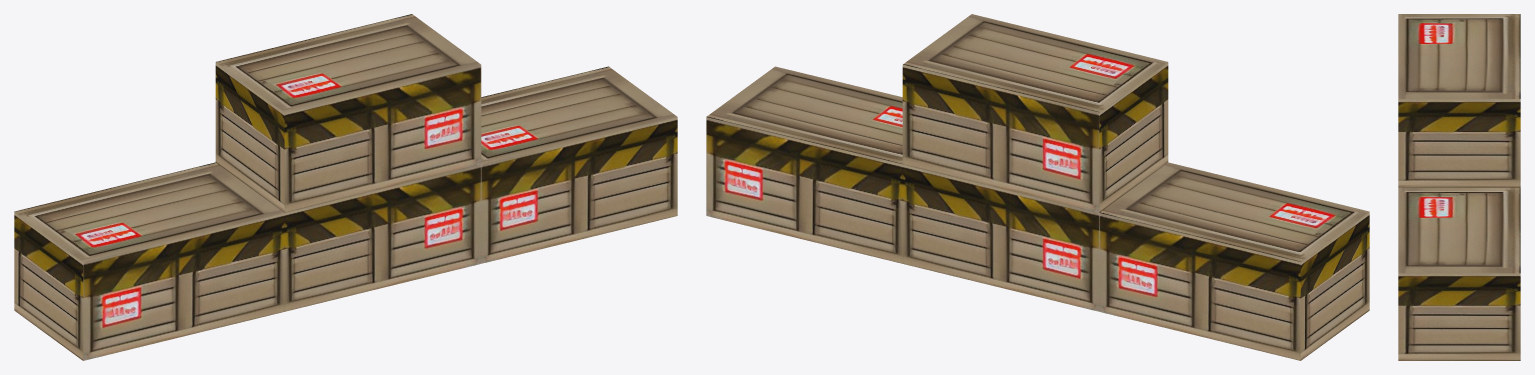
The model's file is munitionscrates_hdtex.glb.
The picture shows the model from 3 angles, left to right: view 1: azimuth 30°, elevation 25°; view 2: azimuth 150°, elevation 25°; view 3: azimuth 270°, elevation 25°; orthographic projection. The views are drawn at different scales.
Parts seen in each view (by area): view 1: ammocrates; view 2: ammocrates; view 3: ammocrates.
Boxes of the visible parts, bbox=[...] form: ammocrates: bbox=[14, 14, 677, 360]; ammocrates: bbox=[706, 14, 1369, 360]; ammocrates: bbox=[1398, 14, 1520, 360].
Size of the model in its own units: 8.44 by 2.71 by 1.7.
1 material, 1 textured.
